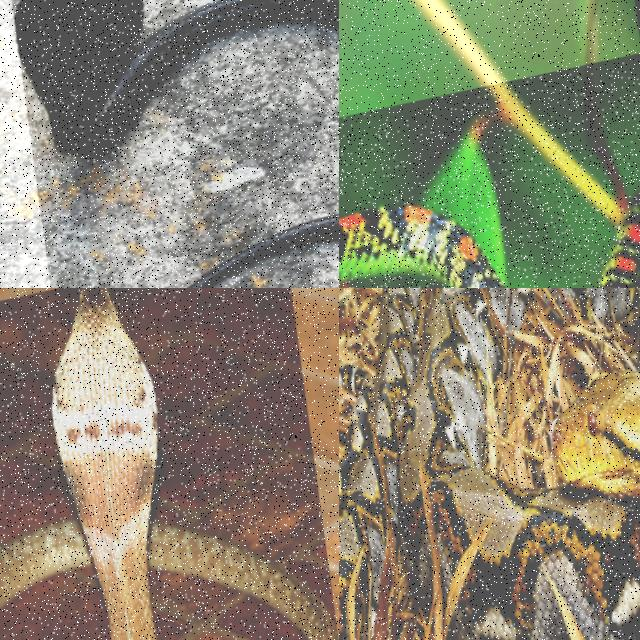Chrysopelea ornata: (339, 206, 506, 287)
Malayopython reticulatus: (339, 288, 639, 639)
Naja kaouthia: (0, 288, 338, 639)
Naja siamensis: (15, 0, 338, 155)
snake: (0, 288, 338, 639), (339, 288, 639, 639), (15, 0, 338, 155), (339, 206, 506, 287)
